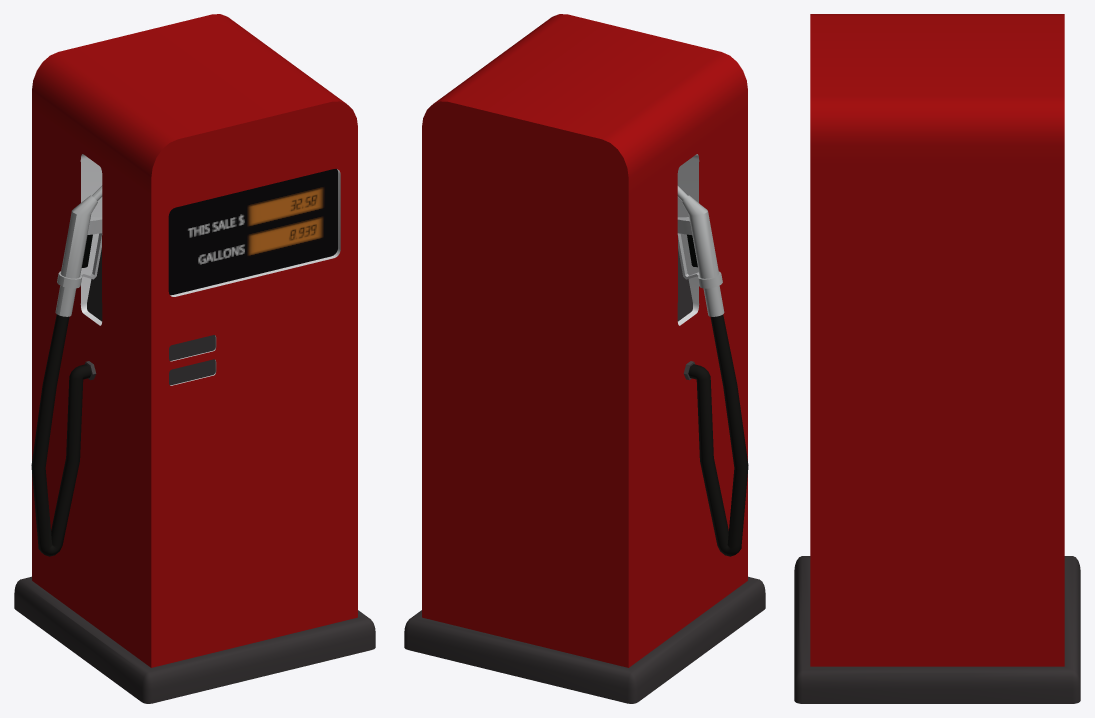
File: e25b4d1a-3339-43aa-84c1-b1cefb63165a.glb
The picture shows the model from 3 angles, left to right: view 1: azimuth 30°, elevation 25°; view 2: azimuth 150°, elevation 25°; view 3: azimuth 270°, elevation 25°; orthographic projection. The views are drawn at different scales.
Visible parts, largest first — view 1: GasolinePumpBox, GasolinePumpNozzle; view 2: GasolinePumpBox, GasolinePumpNozzle; view 3: GasolinePumpBox.
Part boxes in pixels (box(x1,y1,x2,y2)): GasolinePumpBox: box(14, 14, 375, 703); GasolinePumpNozzle: box(31, 185, 102, 556); GasolinePumpBox: box(404, 14, 765, 703); GasolinePumpNozzle: box(677, 186, 748, 556); GasolinePumpBox: box(794, 14, 1080, 703).
Size of what is drawn, in the model's own units: 0.8962 by 1.7 by 0.75.
2 materials, 2 textured.
